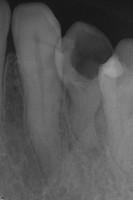Furcation Involvement: (87, 104, 107, 160)
